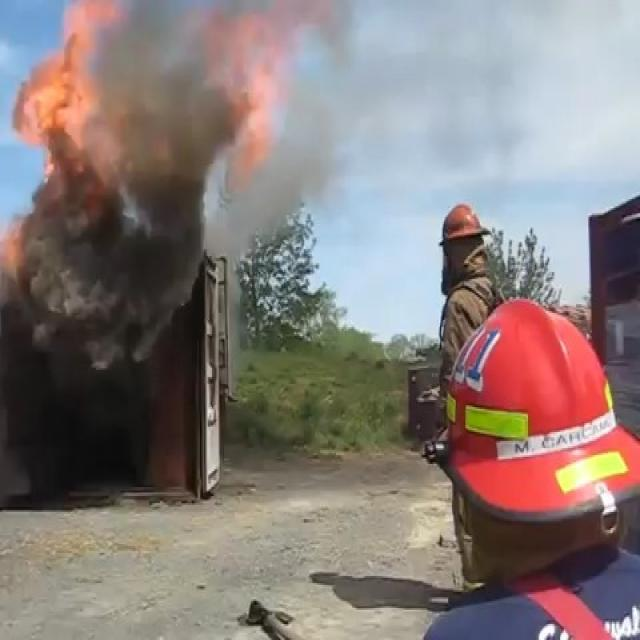Fire: (14, 37, 100, 164)
Smoke: (16, 186, 198, 385)
